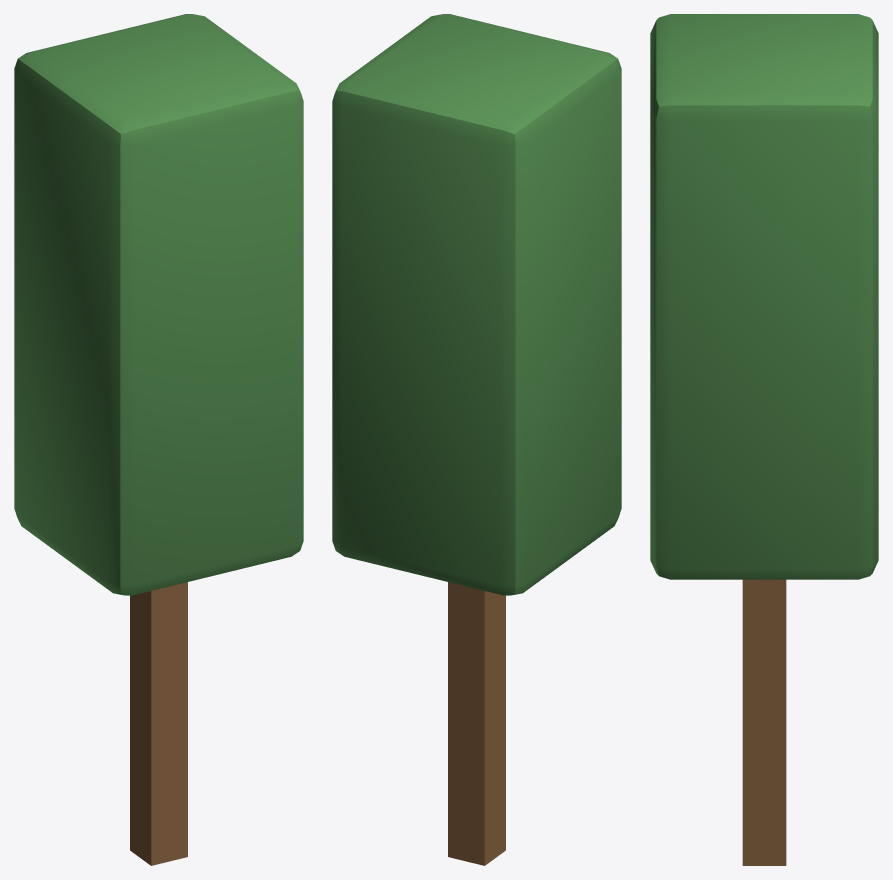
Rendered from Tree.fbx.
The picture shows the model from 3 angles, left to right: view 1: azimuth 30°, elevation 25°; view 2: azimuth 150°, elevation 25°; view 3: azimuth 270°, elevation 25°; orthographic projection. The views are drawn at different scales.
Parts seen in each view (by area): view 1: Tree; view 2: Tree; view 3: Tree.
Boxes of the visible parts, x1,y1,x2,y2 form: Tree: (14,14,303,865); Tree: (332,14,621,865); Tree: (650,14,878,865).
Bounding box in the file's own units: 239 × 929 × 239.
